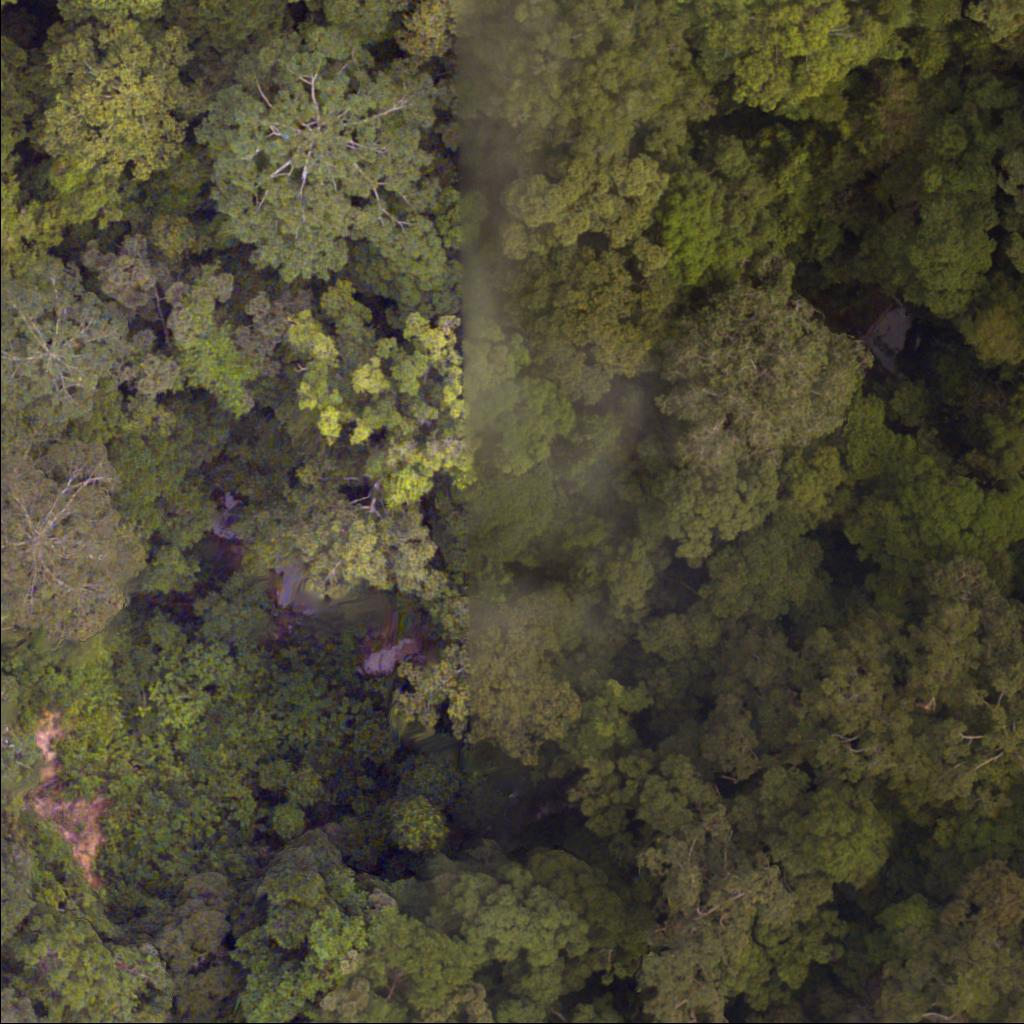crown: (195, 25, 444, 282), (291, 289, 571, 506), (300, 852, 614, 1023), (639, 772, 849, 1023), (388, 573, 589, 763), (653, 118, 869, 292), (660, 290, 869, 468), (897, 560, 1023, 822), (828, 854, 1023, 1023), (674, 0, 959, 112), (490, 252, 680, 411), (0, 264, 175, 426), (616, 418, 785, 566), (241, 479, 442, 601), (46, 24, 200, 176), (733, 764, 896, 887), (891, 446, 1023, 562), (970, 0, 1023, 51), (1003, 136, 1023, 257), (0, 991, 53, 1023), (82, 0, 171, 12)
